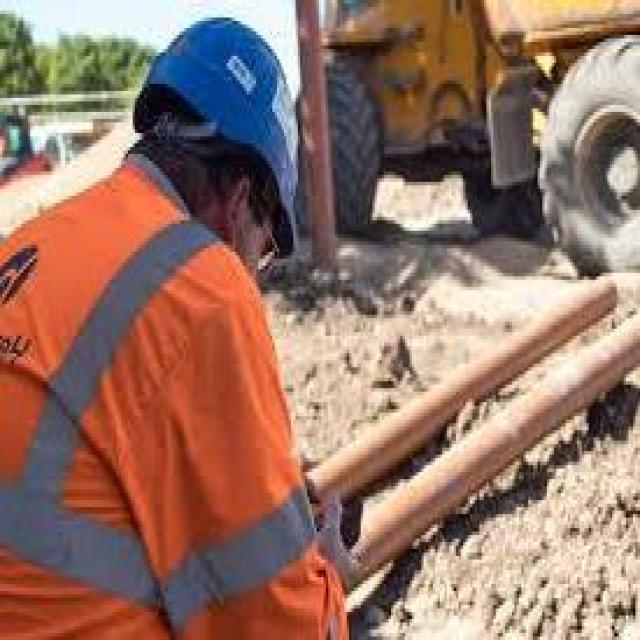Reflective-Jacket: (0, 171, 344, 622)
Safety-Helmet: (130, 10, 314, 231)
